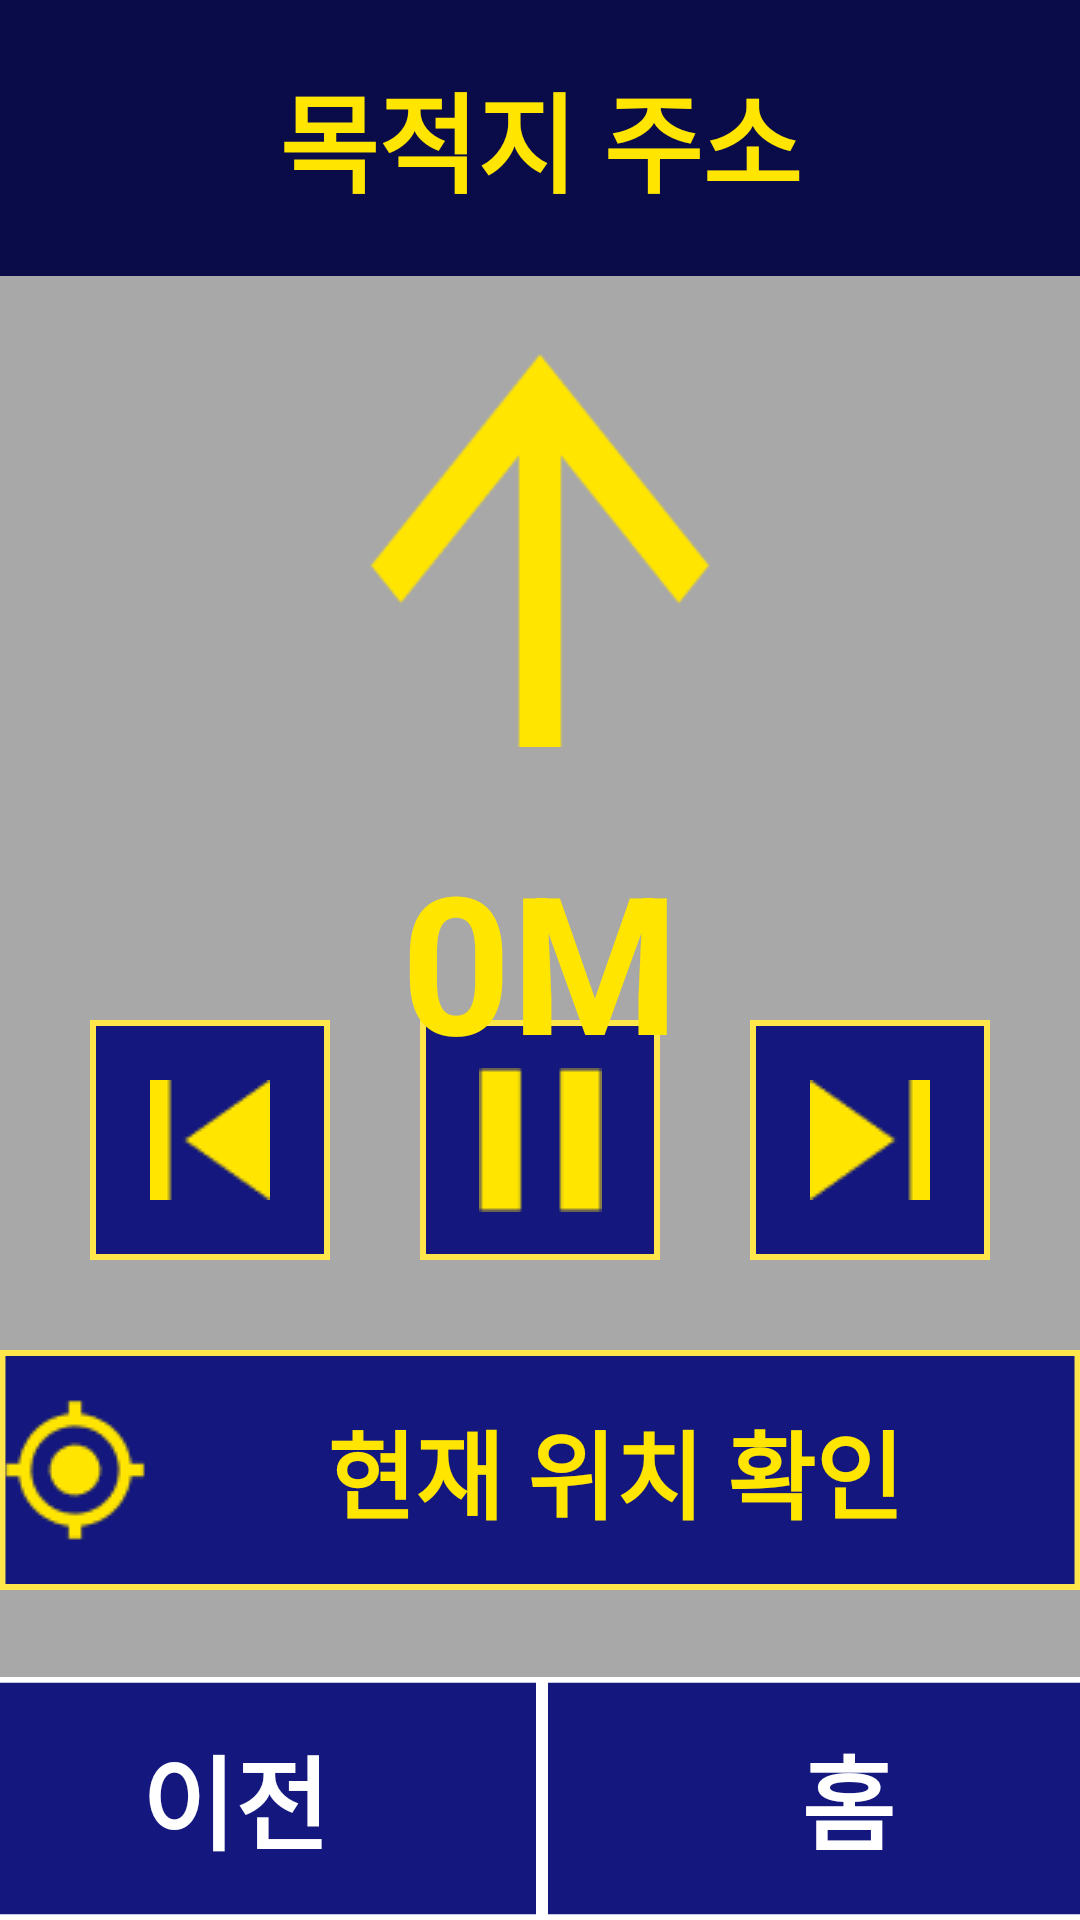

Where icons sit on this 1080×1920 app screen, as (x1=x1, y1=y1, x2=x2, y2=y2):
next: (x1=750, y1=1020, x2=990, y2=1260)
pause: (x1=420, y1=1020, x2=660, y2=1260)
prev: (x1=90, y1=1020, x2=330, y2=1260)
